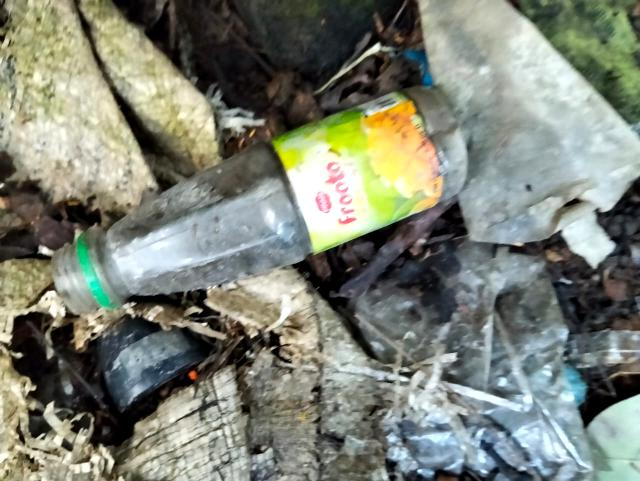bottle: (49, 68, 489, 331)
